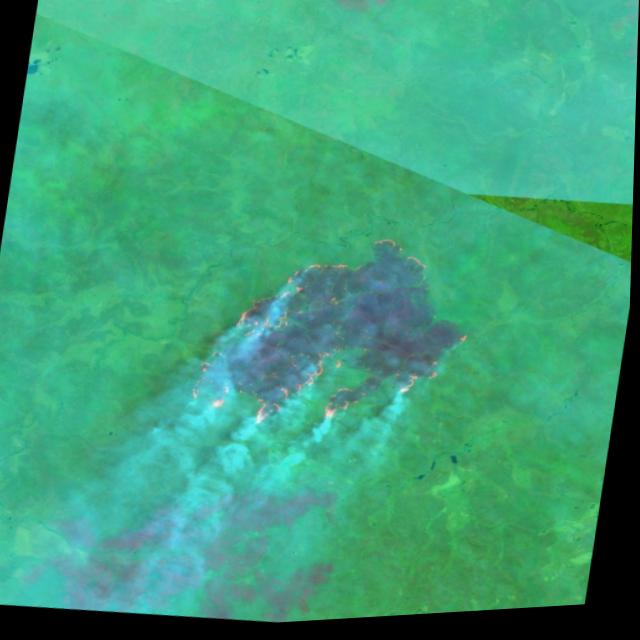fire: (173, 209, 486, 458)
